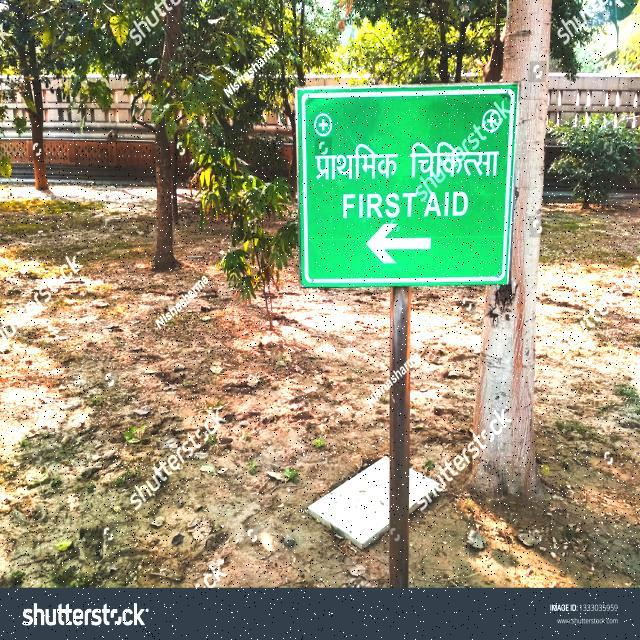Traffic sign: (291, 78, 524, 292)
